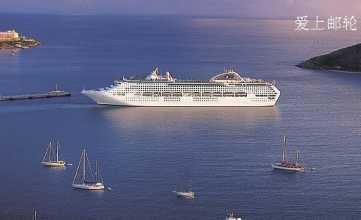fanchuan: (69, 143, 111, 191), (269, 133, 311, 174), (39, 138, 64, 170)
youlun: (81, 66, 283, 109)
